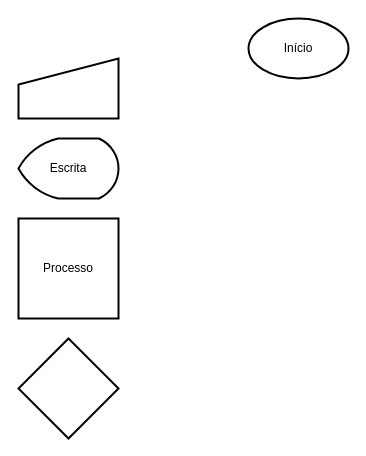
The diagram is 366 pixels wide and 456 high, and some of its shapes have lost their labels. The centre of each missing label's shape, as x and y in pixels:
Decisão: the point at 68,388
Leitura: the point at 68,88
